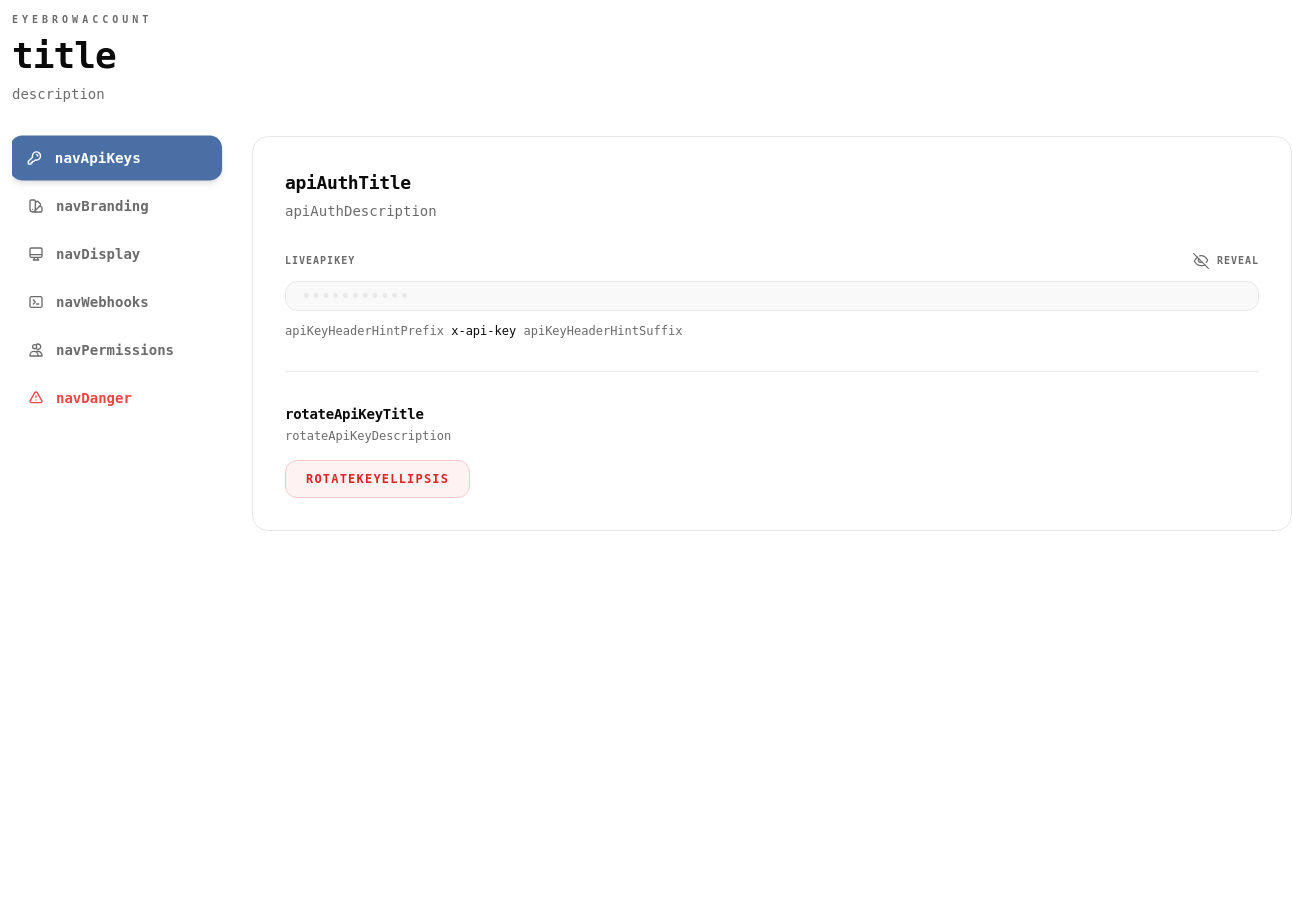
Test: SettingsWidget › Tab navigation › switches to Branding panel on click
This screenshot has width=1292, height=912.
Click the tab "navBranding" at (116, 206), box x1=12 y1=184 x2=220 y2=228
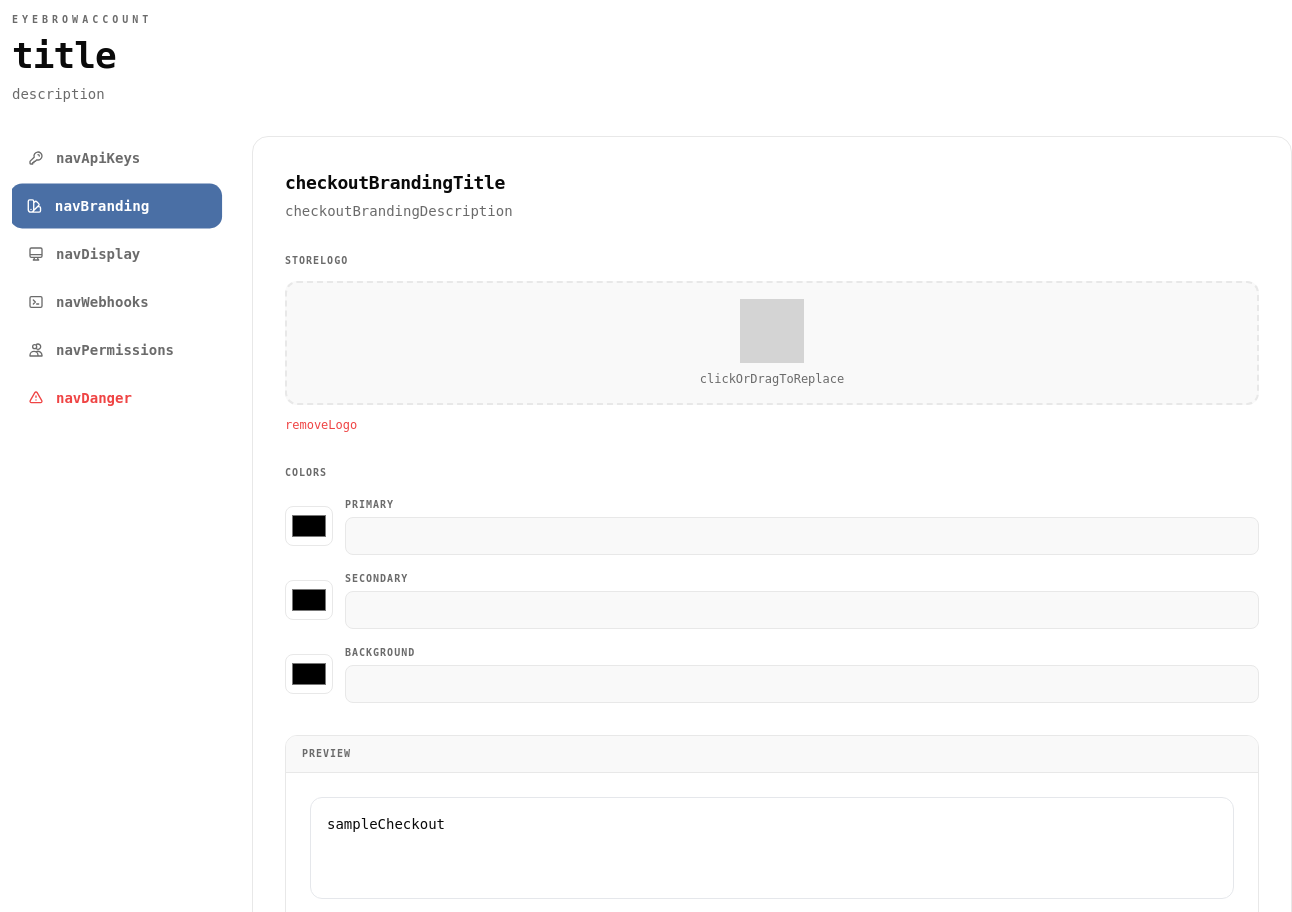
Result: the heading "checkoutBrandingTitle" is shown at x1=285 y1=172 x2=505 y2=193
